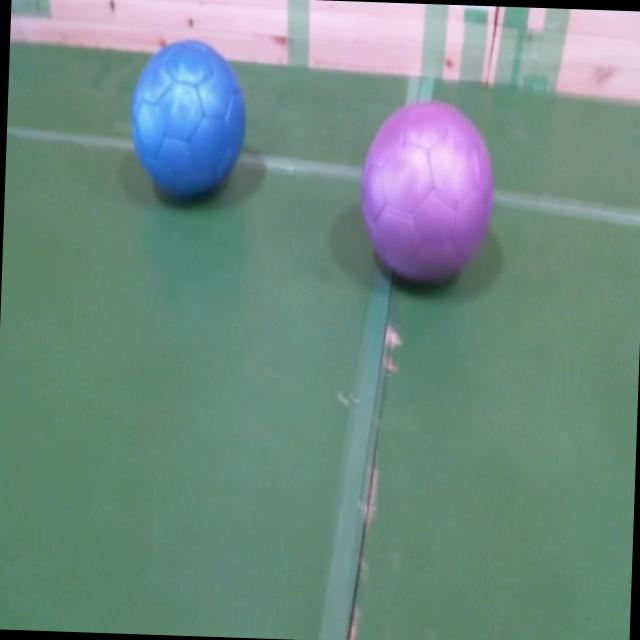blue_ball: (128, 43, 248, 200)
purple_ball: (354, 96, 496, 287)
